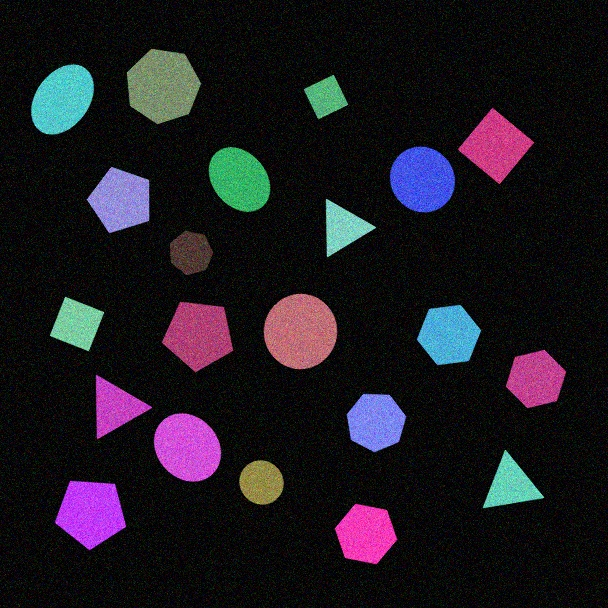Circulo: (263, 293, 338, 370), (389, 146, 456, 213), (238, 460, 285, 505)
Elipse: (153, 413, 222, 482), (30, 64, 95, 135), (208, 146, 271, 213)
Heptagono: (126, 48, 202, 125), (346, 393, 407, 453), (169, 230, 214, 276)
Hexagono: (416, 304, 482, 366), (334, 503, 398, 565), (505, 349, 567, 409)
Pentagono: (161, 301, 234, 373), (54, 480, 127, 551), (86, 166, 150, 234)
Quadrado: (457, 107, 535, 185), (49, 296, 105, 352), (303, 74, 349, 120)
Triangulo: (95, 374, 153, 440), (482, 450, 545, 509), (325, 198, 377, 258)
